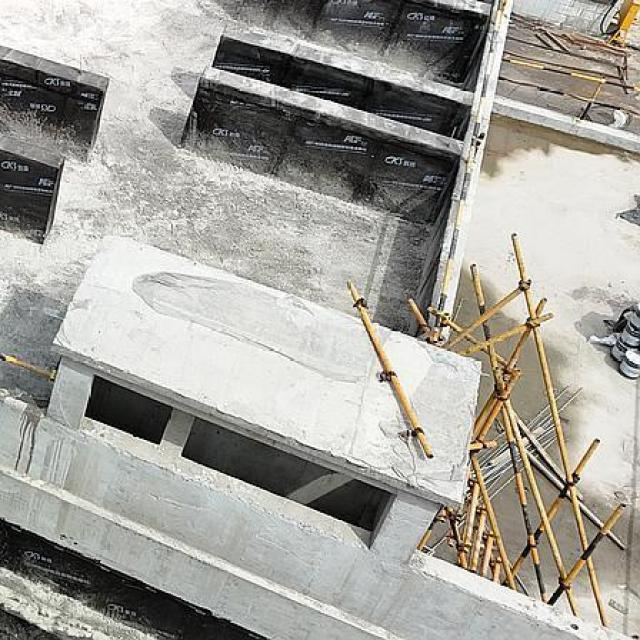edge_guardrail: (428, 0, 506, 343), (497, 56, 640, 121), (0, 348, 60, 382)
